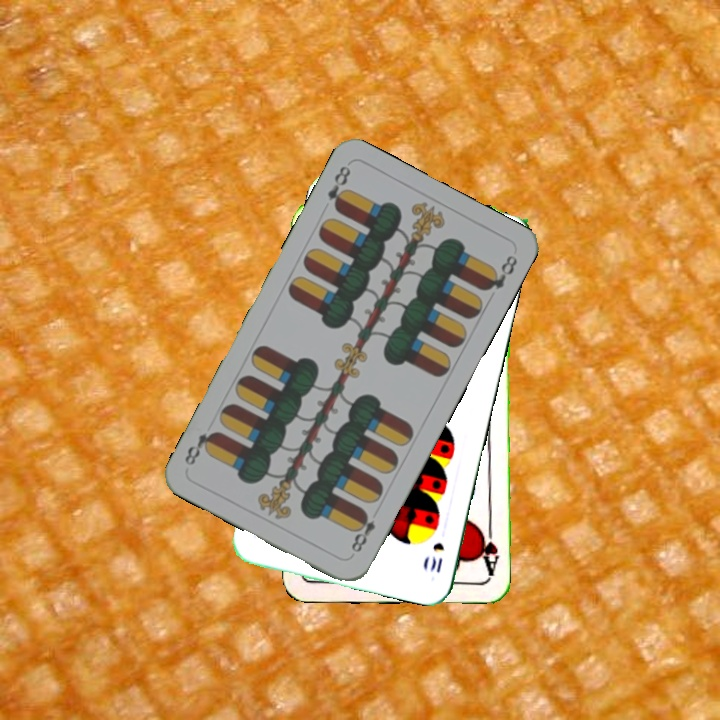E8: (323, 161, 354, 214), (347, 507, 378, 555)
HA: (475, 520, 501, 579)
S10: (426, 538, 447, 575)
